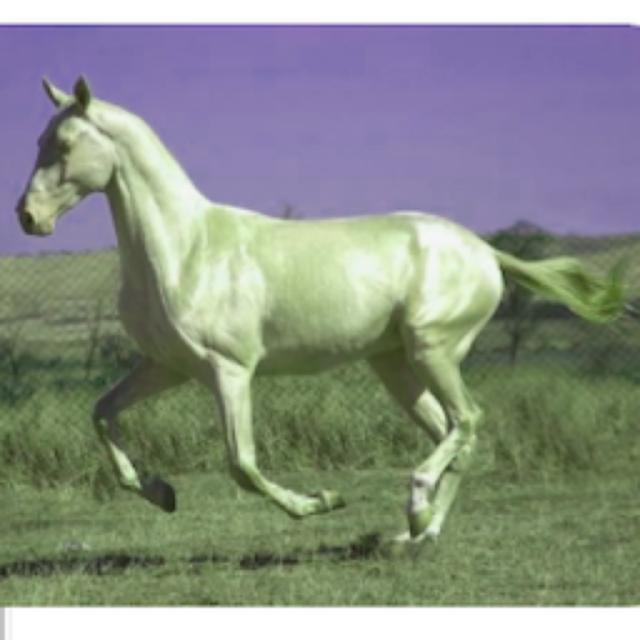Horse: (10, 70, 638, 562)
